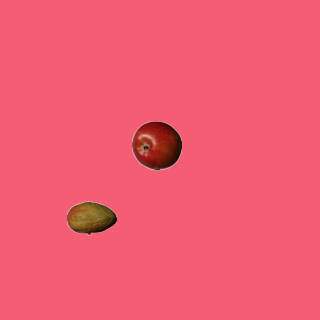Apple Braeburn: (131, 120, 181, 170)
Papaya: (66, 193, 116, 243)
